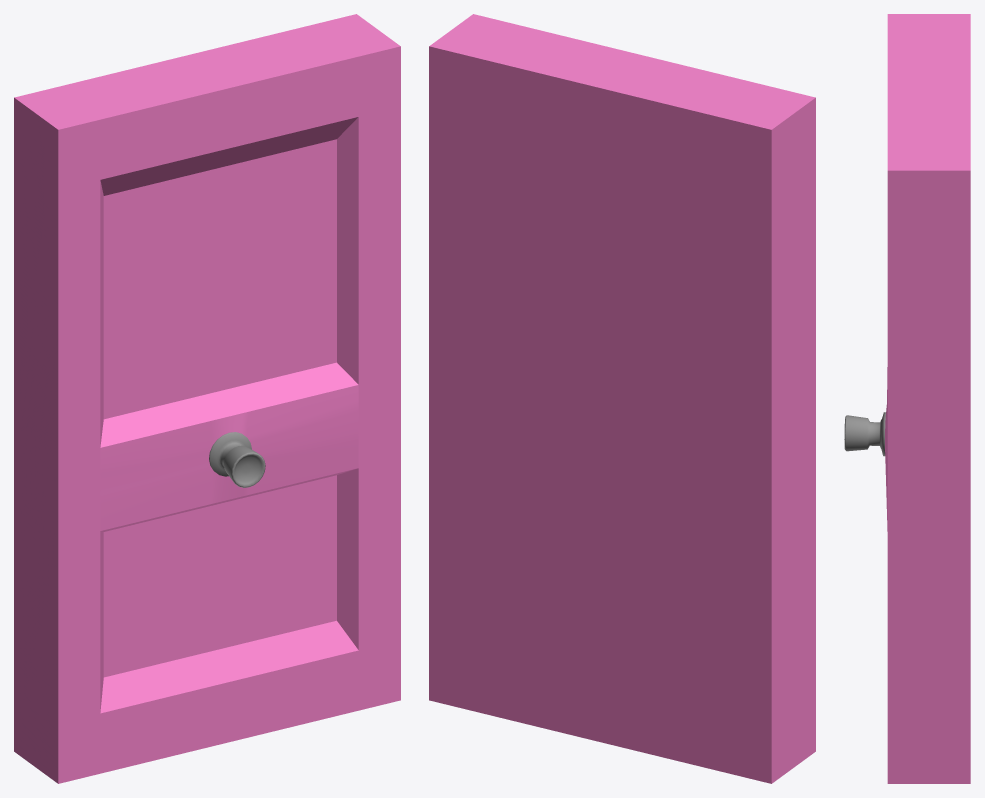
Rendered from door-middledoornob.fbx.
3 views of the same model, side by side, from view 1: azimuth 30°, elevation 25°; view 2: azimuth 150°, elevation 25°; view 3: azimuth 270°, elevation 25° (orthographic). The views are drawn at different scales.
Visible parts, largest first — view 1: door_middledoornob; view 2: door_middledoornob; view 3: door_middledoornob.
Boxes of the visible parts, x1,y1,x2,y2 form: door_middledoornob: (14,14,400,783); door_middledoornob: (429,14,815,783); door_middledoornob: (844,14,970,783).
Bounding box in the file's own units: 9.21 × 16.81 × 3.13.
Materials: 1 (1 with a texture image).
